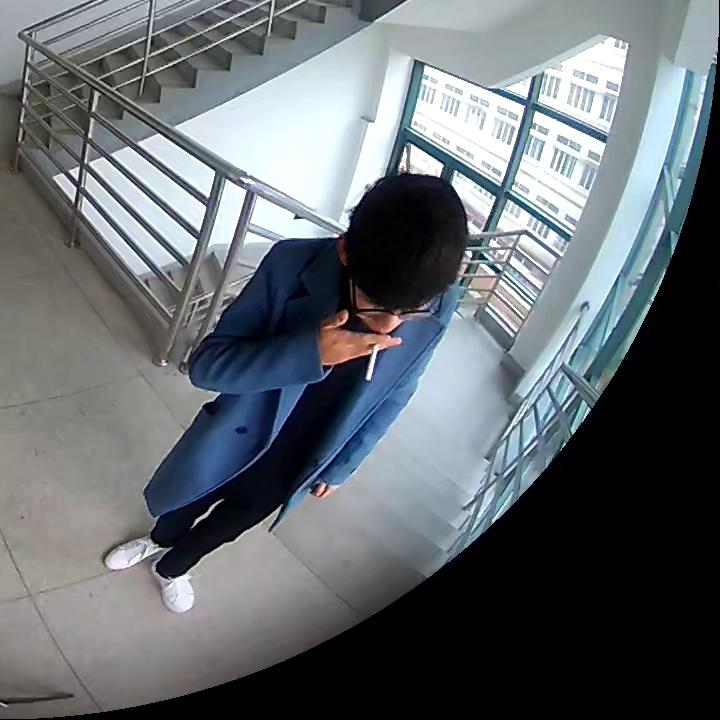handwithoutsmoke: (307, 478, 343, 501)
mouthsmoke: (322, 167, 466, 382)
